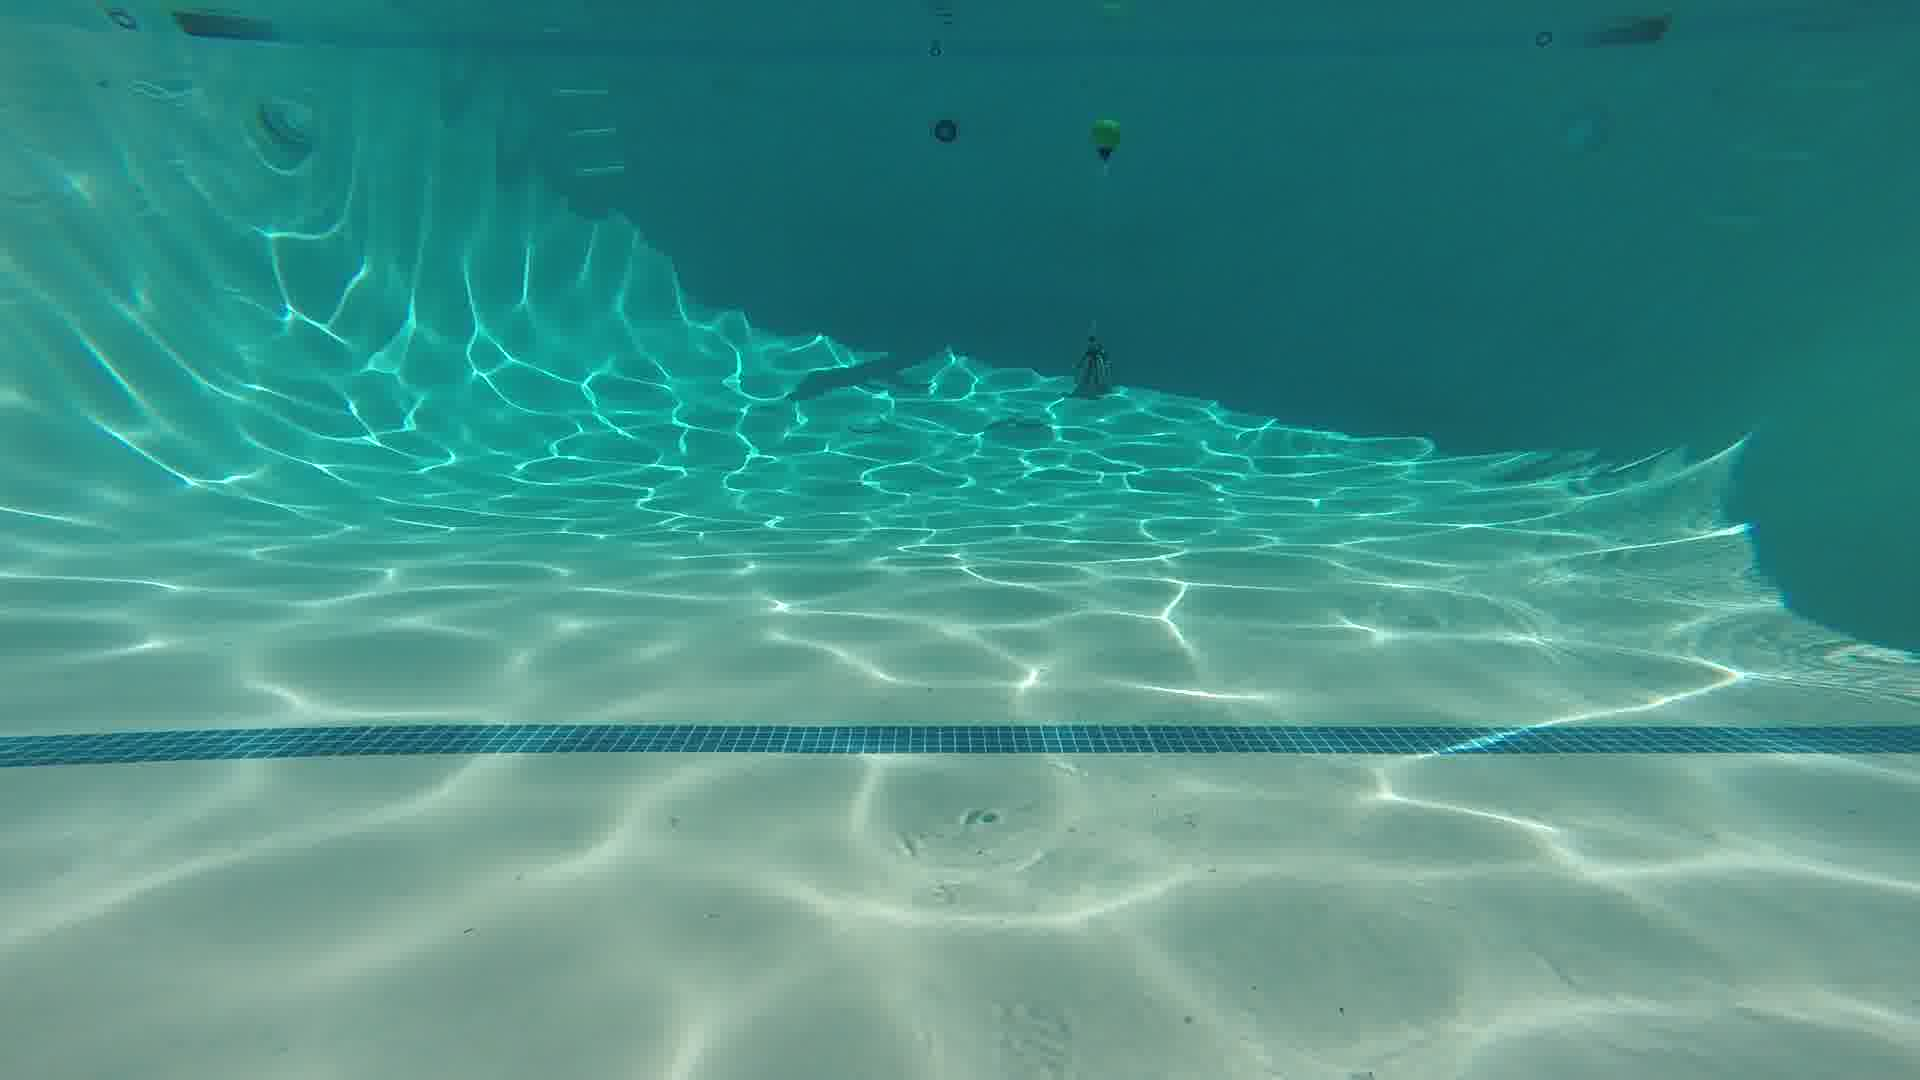yellow buoy: (1087, 108, 1130, 167)
